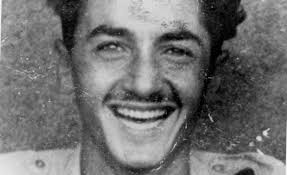middle_eastern_male: (62, 2, 227, 170)
